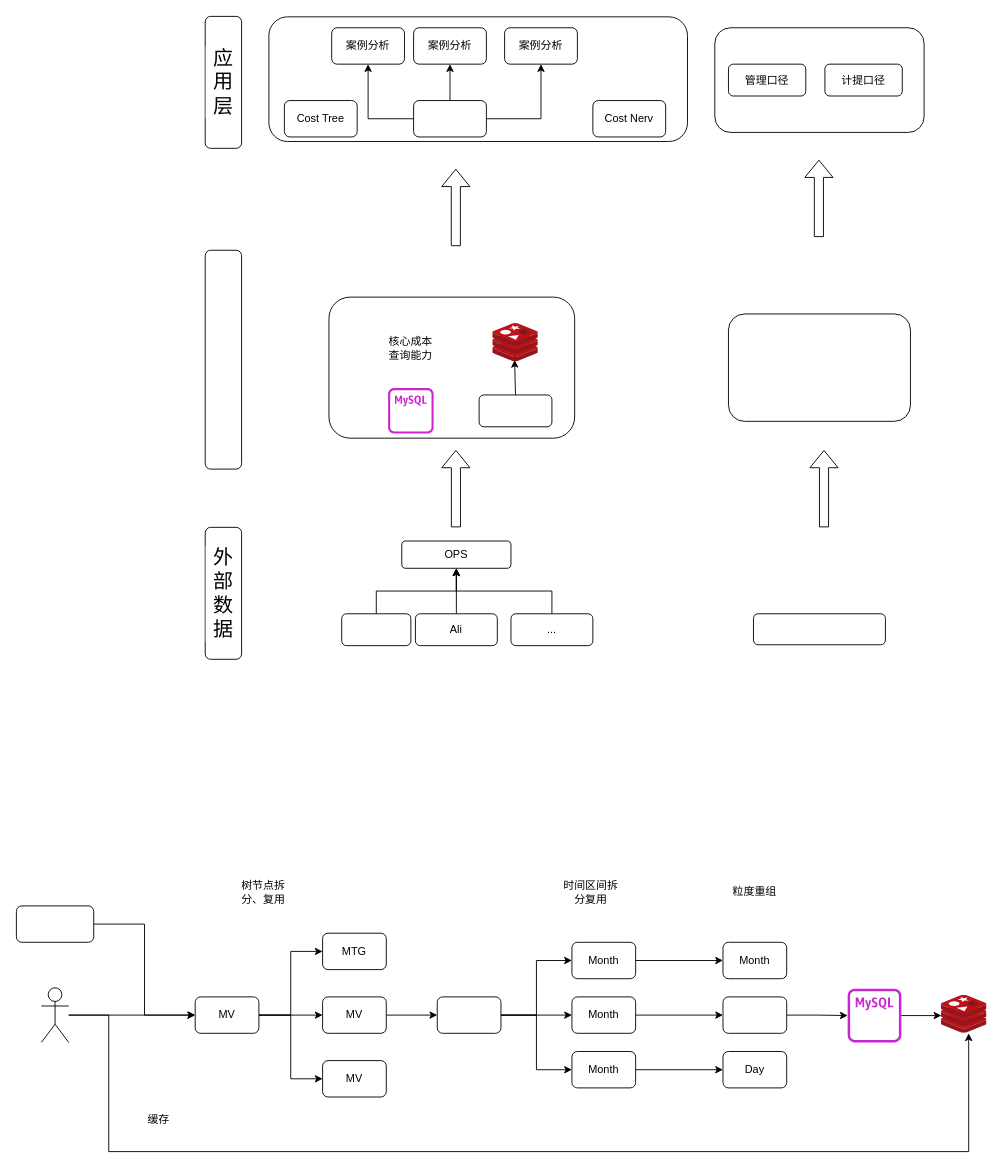
The diagram is 1002 pixels wide and 1175 high, and some of its shapes have lost their labels. Here are the shapes that lost their labels. From the top down, the centre of each, then its label:
At [449,118]: "Cost Lens".
At [223,359]: "数据层".
At [819,367]: "财务数据".
At [515,410]: "成本树".
At [376,629]: "AWS".
At [819,629]: "财务Excel".
At [54,923]: "Shell缓存预热".
At [54,1014]: "User".
At [468,1014]: "Date Range".
At [754,1014]: "Week".
